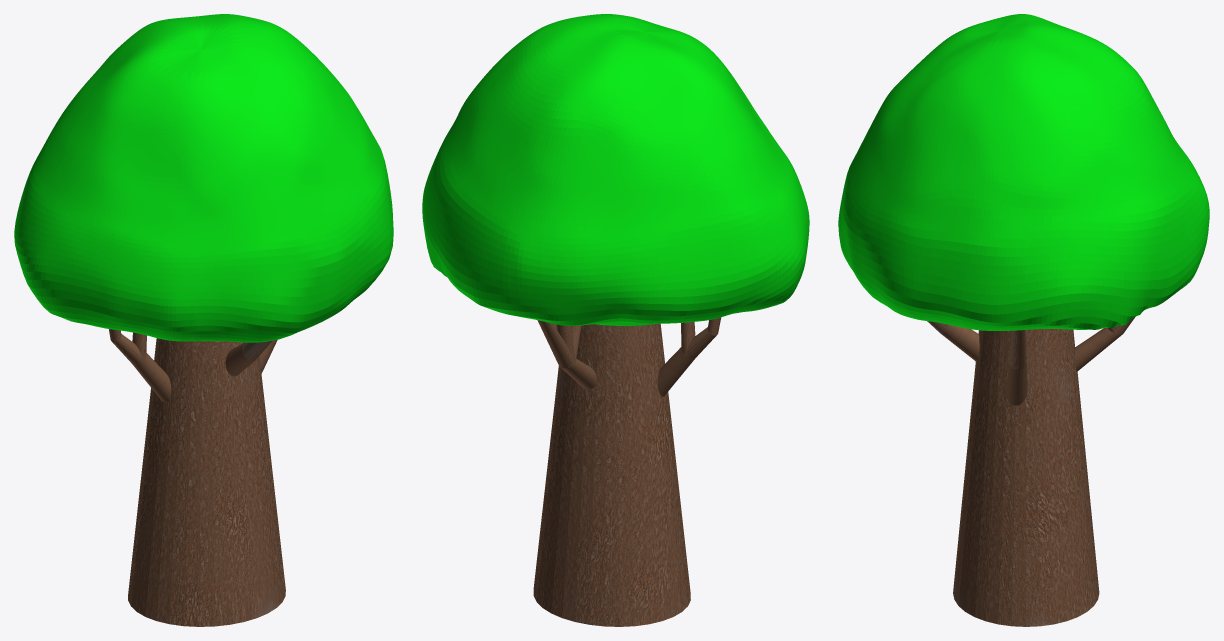
Rendered from Tree.fbx.
3 views of the same model, side by side, from view 1: azimuth 30°, elevation 25°; view 2: azimuth 150°, elevation 25°; view 3: azimuth 270°, elevation 25° (orthographic).
Visible parts, largest first — view 1: Tree leaves, TreeLog, Branch.002, Branch 2; view 2: Tree leaves, TreeLog, Branch, Branch.002; view 3: Tree leaves, TreeLog, Branch.001, Branch, Branch 2.
Boxes of the visible parts, box(x1,y1,x2,y2) form: Tree leaves: box(14, 14, 393, 342); TreeLog: box(128, 338, 285, 626); Branch.002: box(109, 329, 171, 401); Branch 2: box(225, 340, 272, 376); Tree leaves: box(422, 14, 809, 325); TreeLog: box(533, 323, 690, 626); Branch: box(537, 320, 596, 389); Branch.002: box(657, 317, 721, 396); Tree leaves: box(838, 14, 1209, 330); TreeLog: box(953, 329, 1099, 626); Branch.001: box(1006, 330, 1027, 405); Branch: box(1075, 316, 1135, 371); Branch 2: box(927, 321, 979, 361).
Bounding box in the file's own units: 250 × 389 × 234.
